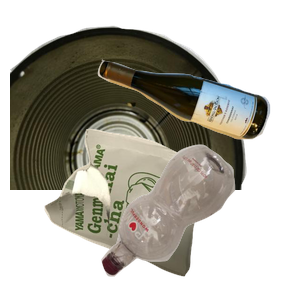glass: (95, 57, 300, 189)
metal: (10, 23, 250, 203)
plastic: (99, 142, 300, 300)
trash: (42, 126, 249, 300)
